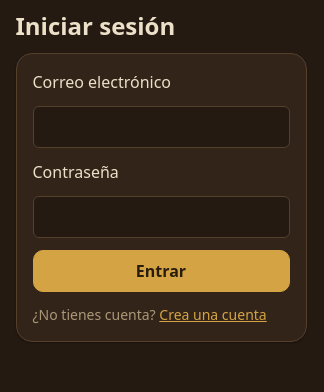
Scenario: LoginPage › says the credentials are wrong when the API answers 401
Type "ana@example.com" into the field labelled "Correo electrónico" at (161, 127), box [32,106,290,148]
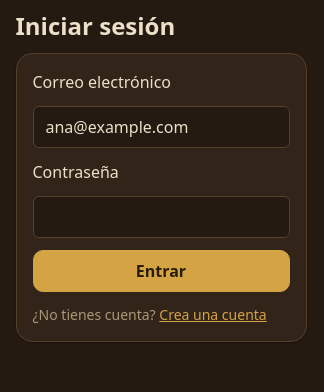
Type "secret" into the password field labelled "Contraseña" at (161, 217), box [32,196,290,238]
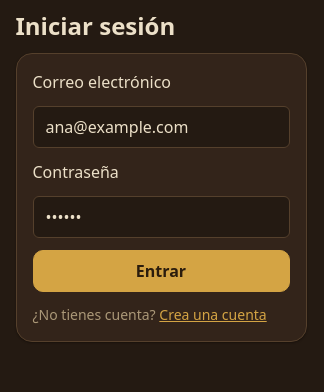
Click the button "Entrar" at (161, 271), box [32,250,290,292]
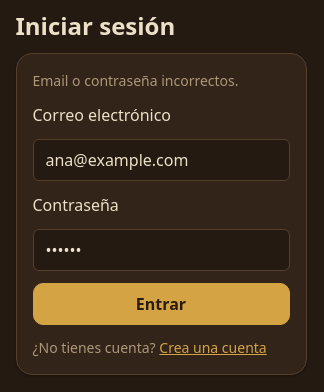
Check: the message reads "Email o contraseña incorrectos.", box [32,71,238,90]
